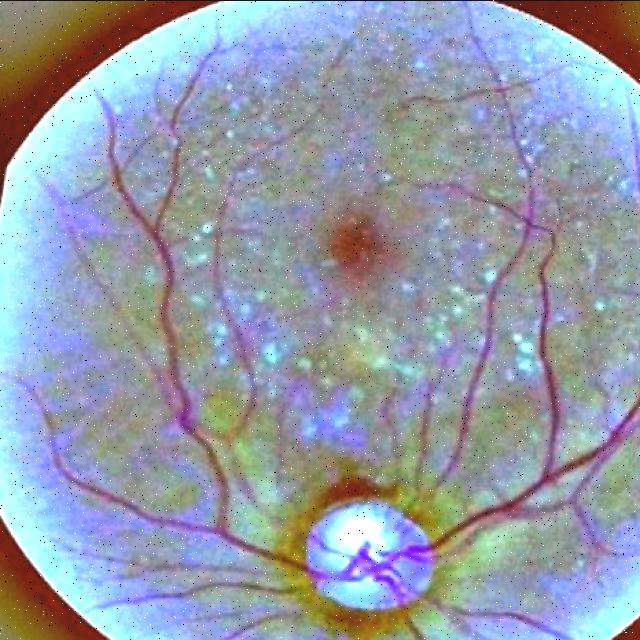Nerves: (37, 191, 366, 583), (404, 223, 640, 566)
Optic Disk: (296, 489, 447, 617)
